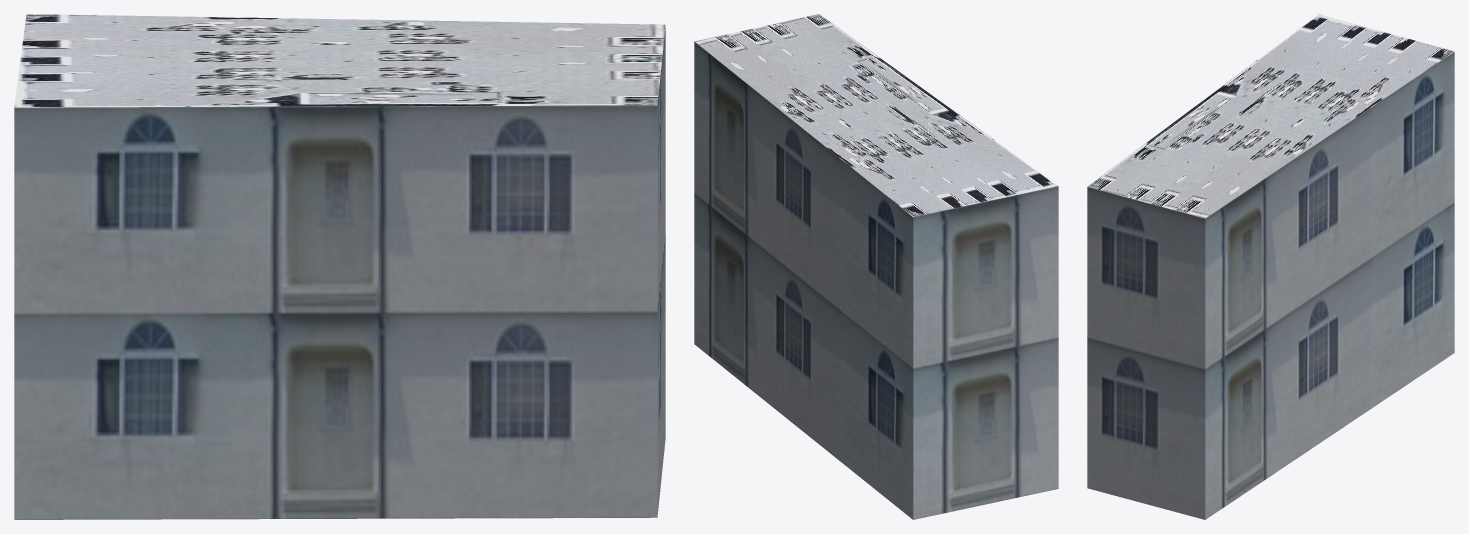
Rendered from ResTex__3728.fbx.
3 views of the same model, side by side, from view 1: azimuth 30°, elevation 25°; view 2: azimuth 150°, elevation 25°; view 3: azimuth 270°, elevation 25° (orthographic). The views are drawn at different scales.
Parts seen in each view (by area): view 1: CityEngineMaterial_17_m, CityEngineMaterial_4_m; view 2: CityEngineMaterial_17_m, CityEngineMaterial_4_m; view 3: CityEngineMaterial_17_m, CityEngineMaterial_4_m.
Part boxes in pixels (x1,y1,x2,y2): CityEngineMaterial_17_m: (14, 27, 665, 519); CityEngineMaterial_4_m: (14, 14, 665, 107); CityEngineMaterial_17_m: (694, 41, 1058, 519); CityEngineMaterial_4_m: (695, 14, 1057, 216); CityEngineMaterial_17_m: (1087, 52, 1454, 519); CityEngineMaterial_4_m: (1087, 14, 1454, 218).
Bounding box in the file's own units: 8.74 × 6 × 6.63.
2 materials, 2 textured.
